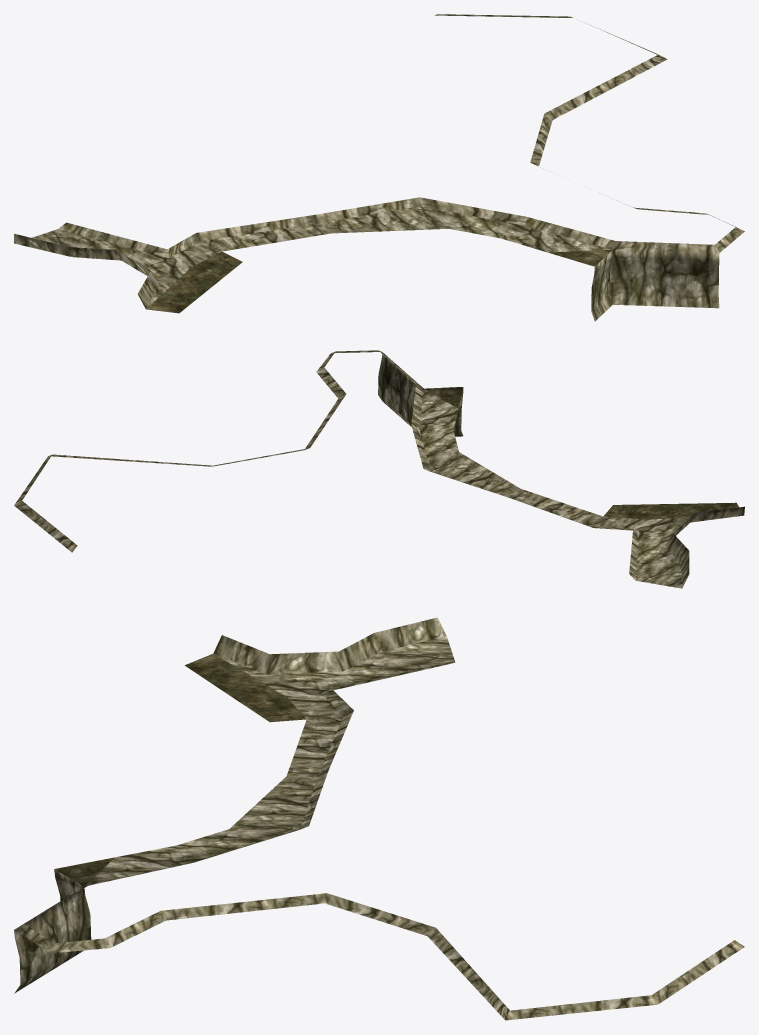
The model's file is CB_NEWPLAYSURFACE_CB_PLAYSURFACE134.fbx.
The picture shows the model from 3 angles, top to bottom: view 1: azimuth 30°, elevation 25°; view 2: azimuth 150°, elevation 25°; view 3: azimuth 270°, elevation 25°; orthographic projection. The views are drawn at different scales.
Visible parts, largest first — view 1: CB_NEWPLAYSURFACE_CB_PLAYSURFACE134; view 2: CB_NEWPLAYSURFACE_CB_PLAYSURFACE134; view 3: CB_NEWPLAYSURFACE_CB_PLAYSURFACE134.
Boxes of the visible parts, x1=… form: CB_NEWPLAYSURFACE_CB_PLAYSURFACE134: x1=14, y1=14, x2=744, y2=321; CB_NEWPLAYSURFACE_CB_PLAYSURFACE134: x1=14, y1=350, x2=744, y2=588; CB_NEWPLAYSURFACE_CB_PLAYSURFACE134: x1=14, y1=617, x2=744, y2=1020.
Bounding box in the file's own units: 519355 × 50000 × 414550.
3 materials, 3 textured.
